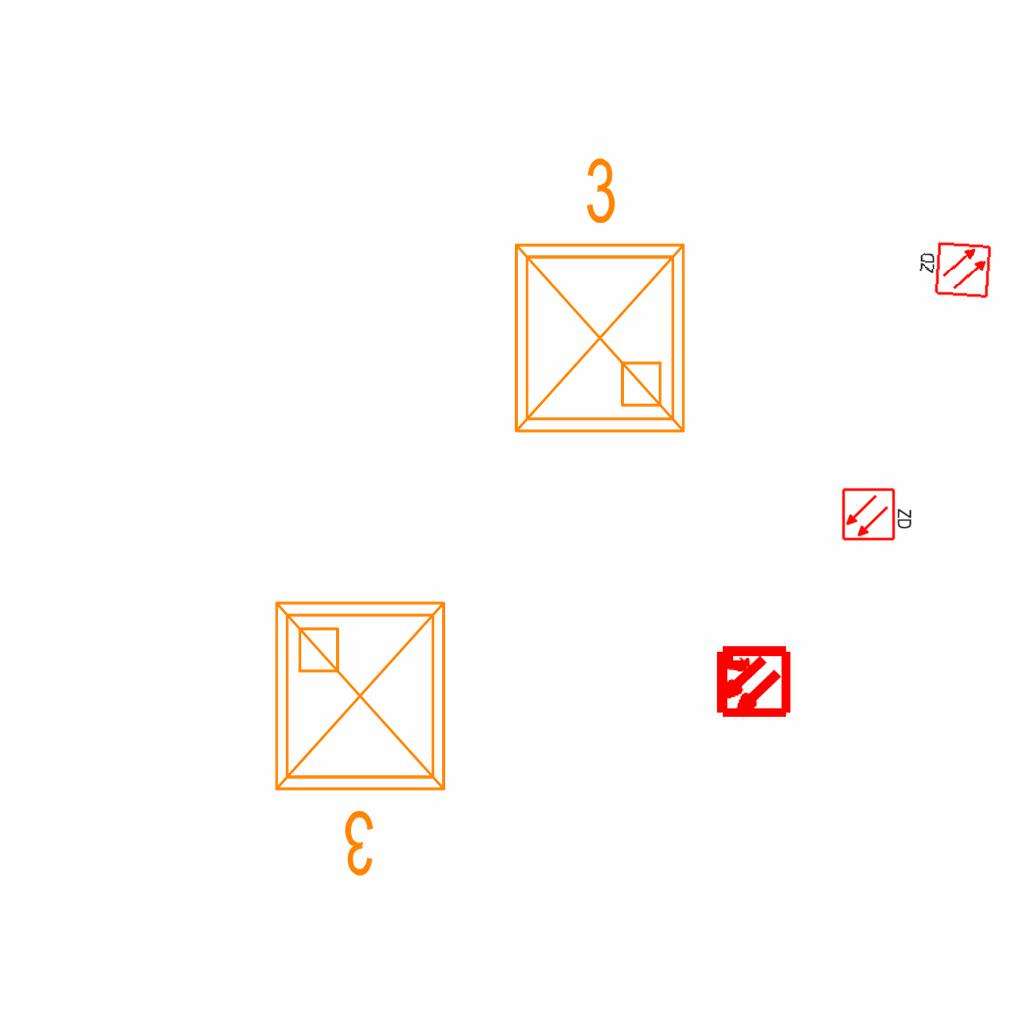Einbaudownlights_LED_Konferenzraeume: (492, 147, 700, 447), (260, 587, 468, 887)
OT_Multisensormelder_(Kombination_RMO_WMD): (695, 625, 808, 738)
ZD_Melder_in_Zwischendecke_mit_Revisionsoeffnung_mind_40_x_40_cm: (914, 238, 993, 302), (841, 485, 915, 542)
